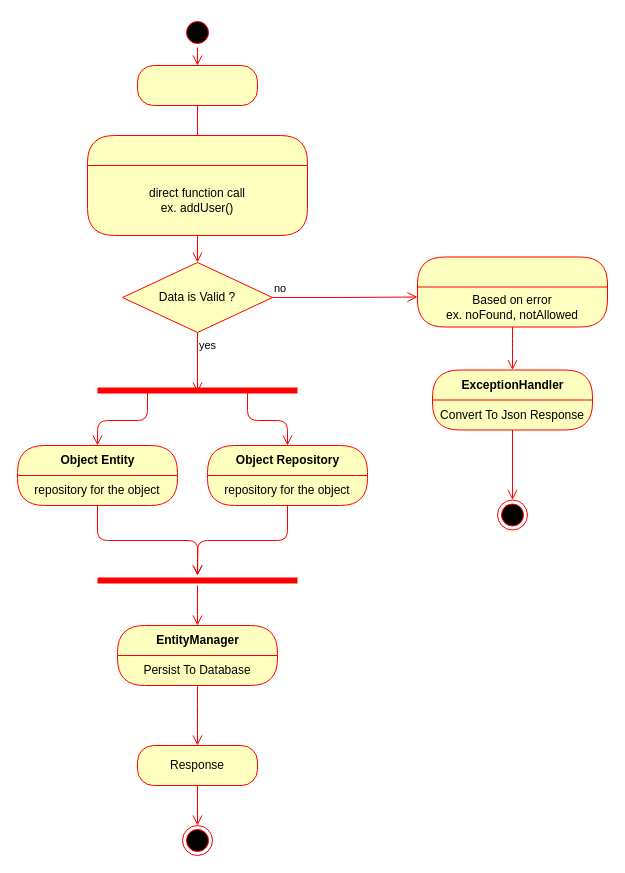
Image size: 625x873. Some labels were removed from this diagram. Here are the shapes that lost their labels. From the top down, the box of each, then its label:
(136, 64, 258, 106): Request
(86, 134, 308, 236): Route defined Controller
(416, 256, 608, 327): Throw Exception
